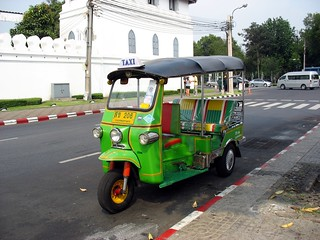car: (249, 77, 272, 88)
threewheel: (90, 55, 246, 214)
van: (275, 70, 320, 90)
